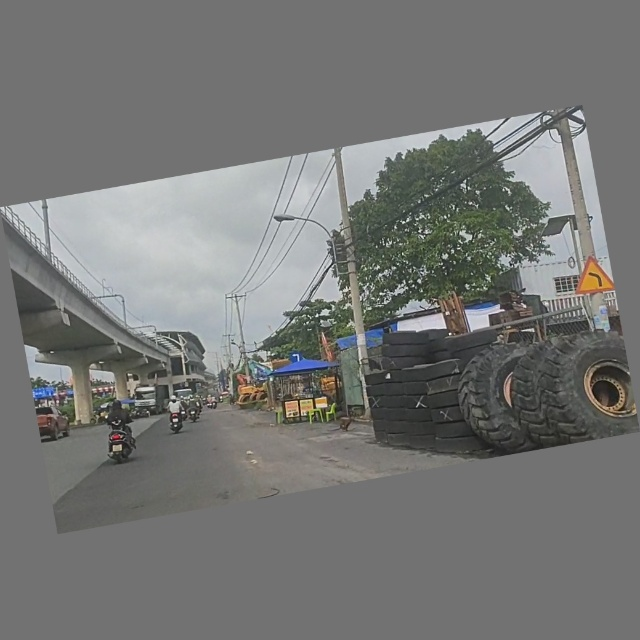R.301e: (288, 350, 303, 365)
W.201a: (570, 253, 615, 297)
